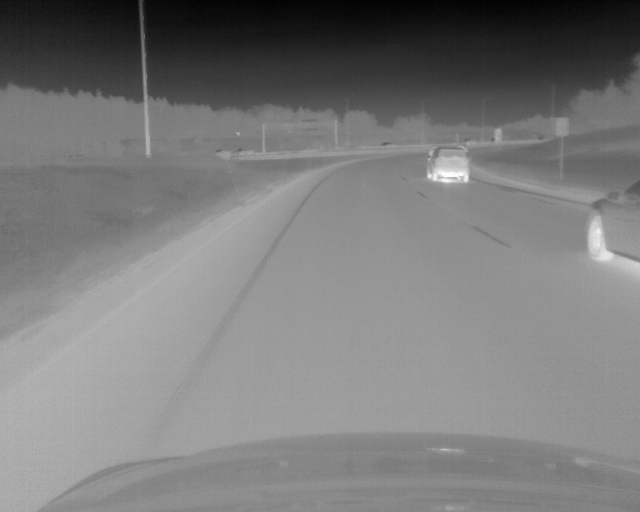car: (584, 178, 640, 264), (426, 144, 470, 183)
